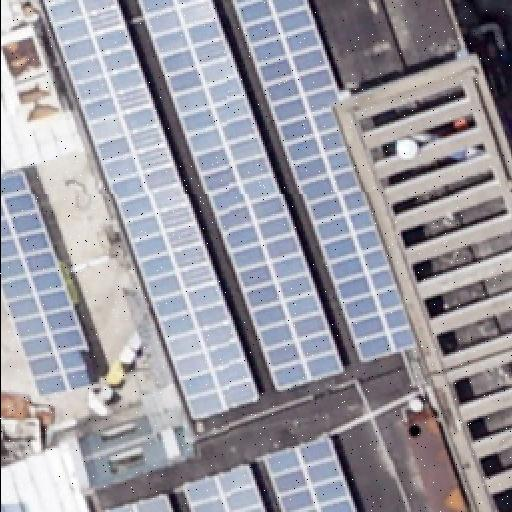solar-panel: (45, 0, 259, 424), (137, 0, 343, 392), (233, 0, 415, 364), (0, 170, 92, 398), (262, 436, 354, 512), (182, 464, 266, 512), (105, 496, 175, 512)
